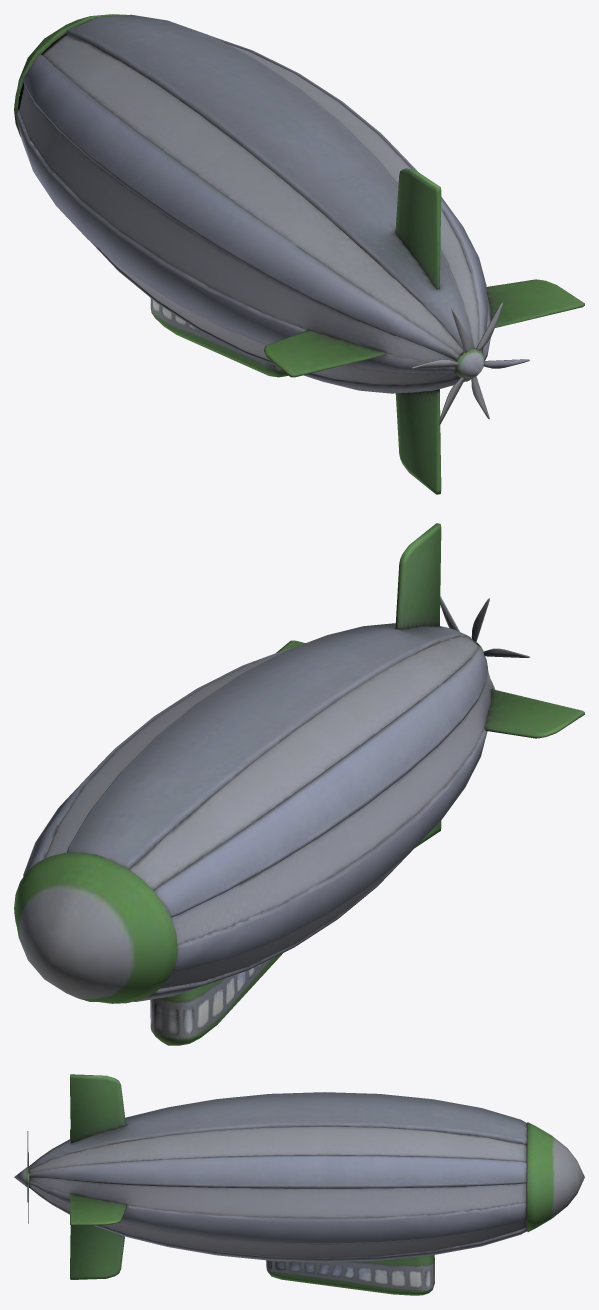
Rendered from Zeppelin_green.glb.
3 views of the same model, one above another, from view 1: azimuth 30°, elevation 25°; view 2: azimuth 150°, elevation 25°; view 3: azimuth 270°, elevation 25° (orthographic). The views are drawn at different scales.
Visible parts, largest first — view 1: Sphere.007; view 2: Sphere.007; view 3: Sphere.007.
Boxes of the visible parts, bbox=[...] form: Sphere.007: bbox=[14, 14, 584, 494]; Sphere.007: bbox=[14, 523, 584, 1045]; Sphere.007: bbox=[14, 1074, 584, 1295].
Size of the model in its own units: 2.38 by 2.51 by 6.
1 material, 1 textured.
